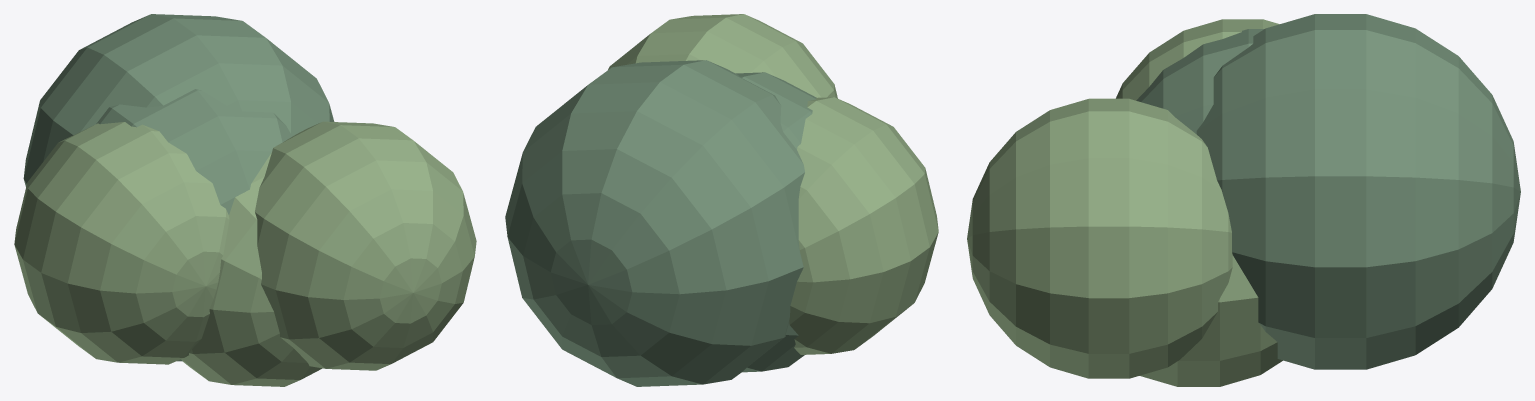
Rendered from mdl_vegetation_bush_tropical_001.glb.
The picture shows the model from 3 angles, left to right: view 1: azimuth 30°, elevation 25°; view 2: azimuth 150°, elevation 25°; view 3: azimuth 270°, elevation 25°; orthographic projection. The views are drawn at different scales.
Parts seen in each view (by area): view 1: m_manigua_claro, m_manigua; view 2: m_manigua, m_manigua_claro; view 3: m_manigua, m_manigua_claro.
Boxes of the visible parts, bbox=[...] form: m_manigua_claro: bbox=[14, 121, 476, 386]; m_manigua: bbox=[23, 14, 334, 361]; m_manigua: bbox=[505, 60, 816, 386]; m_manigua_claro: bbox=[608, 14, 938, 354]; m_manigua: bbox=[1136, 14, 1520, 369]; m_manigua_claro: bbox=[967, 19, 1282, 386].
Size of the model in its own units: 1.22 by 0.9724 by 1.44.
